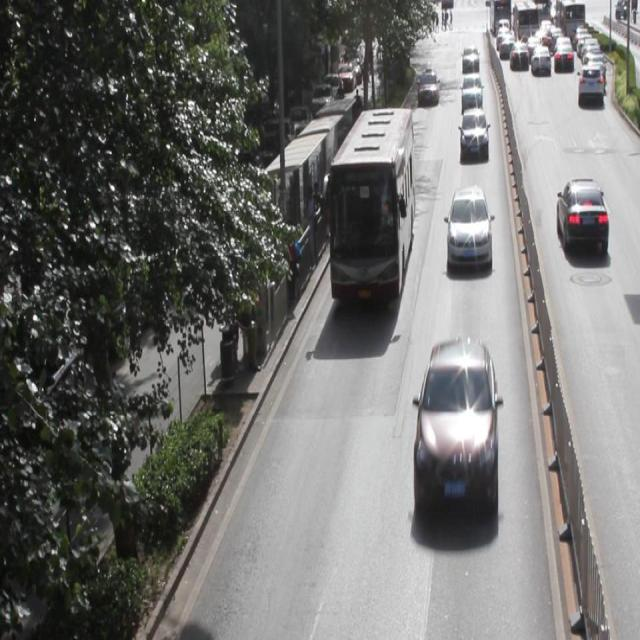car: (414, 338, 496, 509), (554, 175, 607, 258), (445, 186, 490, 267), (458, 108, 488, 155)
van: (329, 108, 414, 300)
